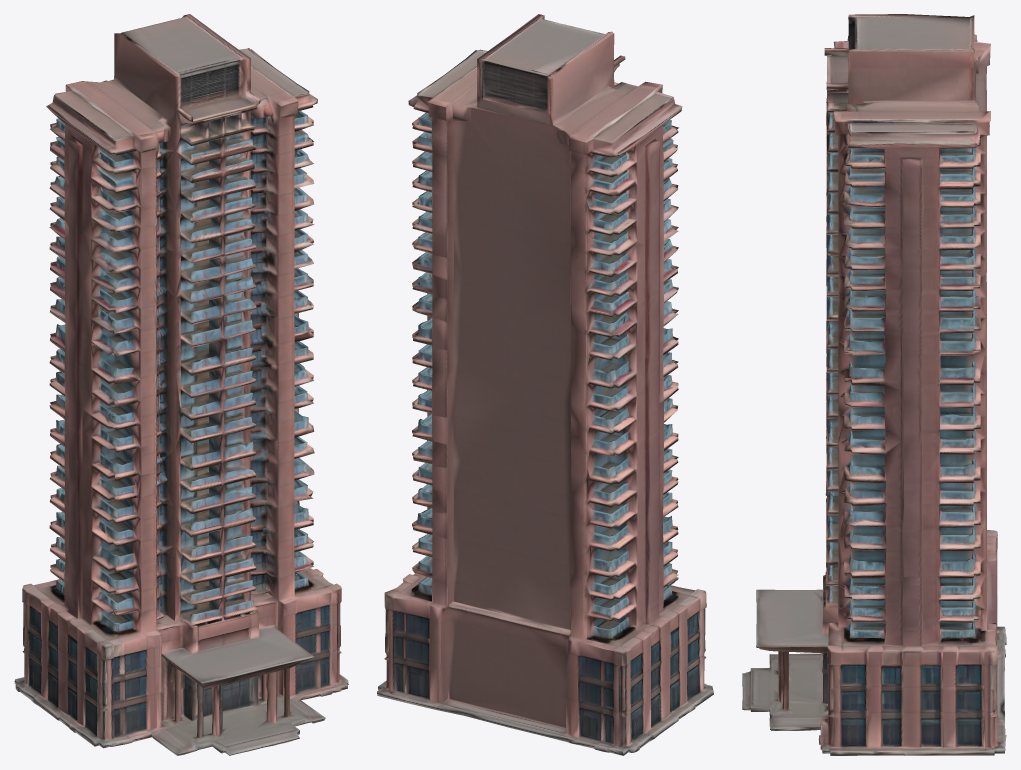
Rendered from 02-pink-high-rise-building-3d-model-53.glb.
3 views of the same model, side by side, from view 1: azimuth 30°, elevation 25°; view 2: azimuth 150°, elevation 25°; view 3: azimuth 270°, elevation 25° (orthographic). The views are drawn at different scales.
Visible parts, largest first — view 1: tripo_node_c1a35799-d46c-4c96-ac1f-15c8ef86f231; view 2: tripo_node_c1a35799-d46c-4c96-ac1f-15c8ef86f231; view 3: tripo_node_c1a35799-d46c-4c96-ac1f-15c8ef86f231.
Boxes of the visible parts, x1=… form: tripo_node_c1a35799-d46c-4c96-ac1f-15c8ef86f231: x1=14, y1=14, x2=348, y2=755; tripo_node_c1a35799-d46c-4c96-ac1f-15c8ef86f231: x1=377, y1=14, x2=713, y2=755; tripo_node_c1a35799-d46c-4c96-ac1f-15c8ef86f231: x1=742, y1=14, x2=1006, y2=755.
Size of the model in its own units: 0.4079 by 0.9822 by 0.3557.
Materials: 1 (1 with a texture image).
